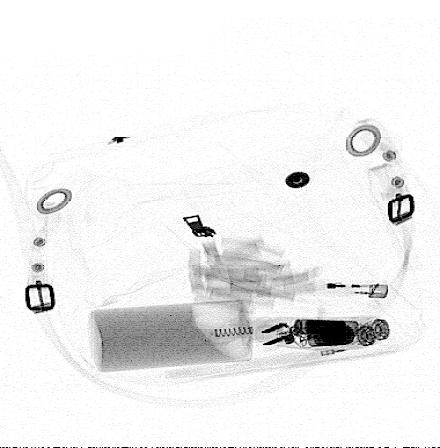Lighter: (294, 280, 389, 298)
